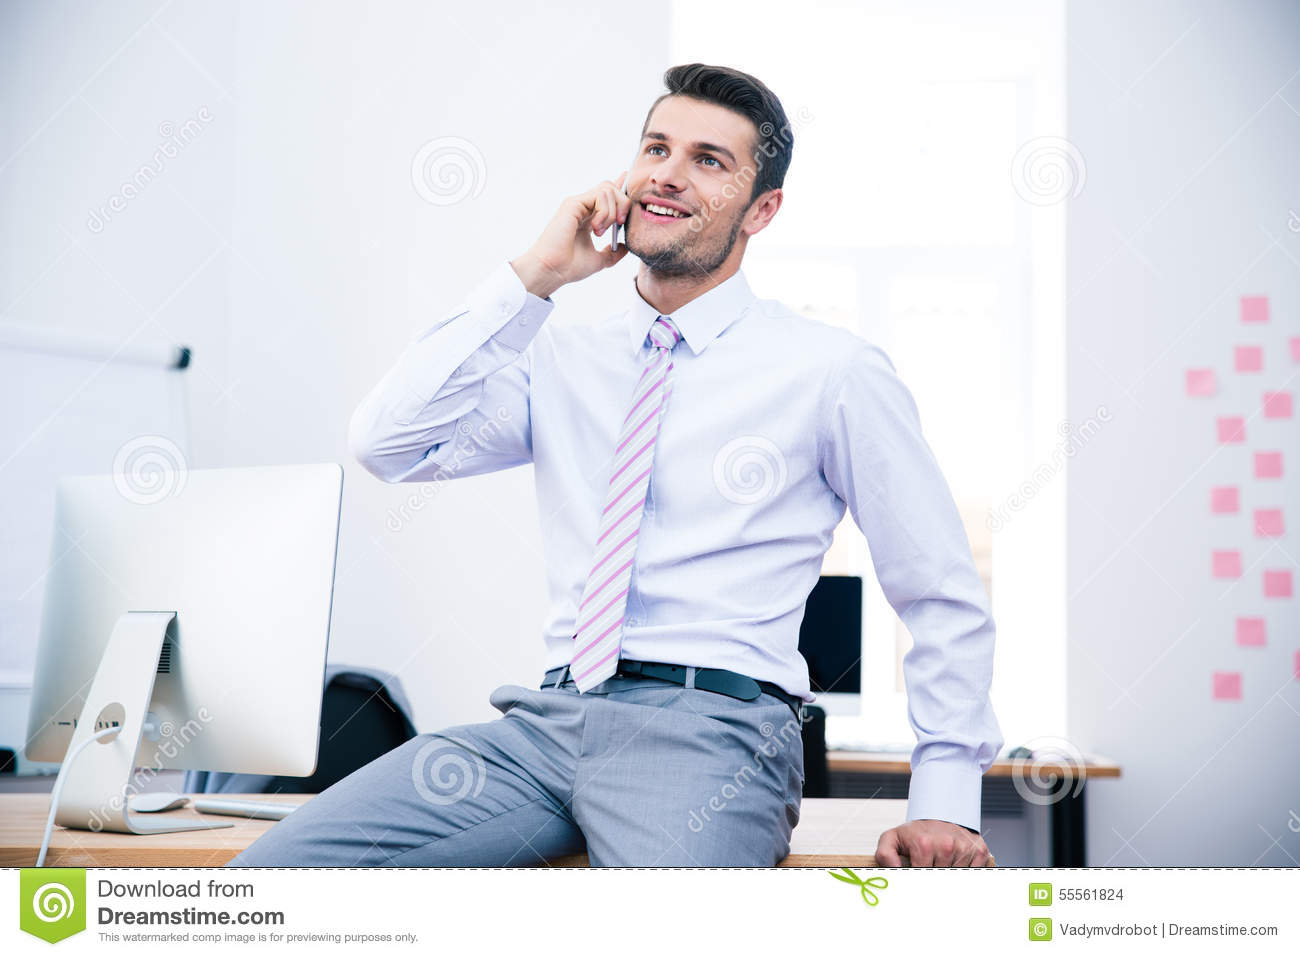phone: (604, 159, 633, 254)
talk: (534, 130, 747, 286)
